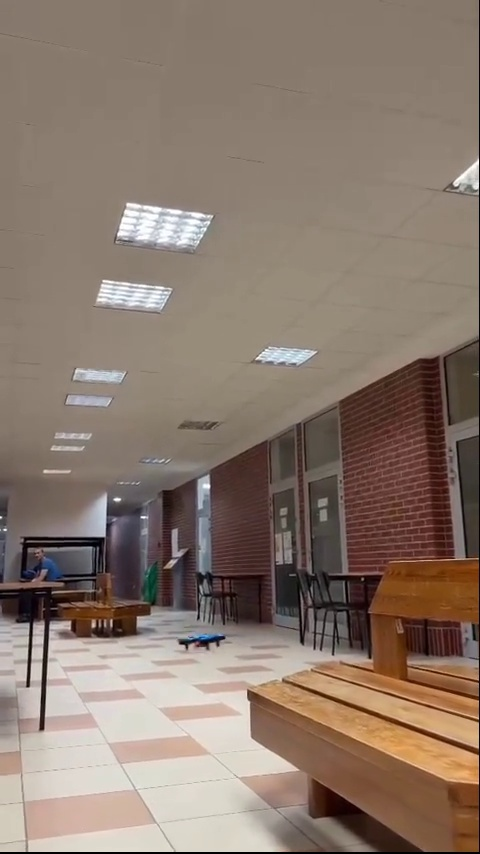drone: (177, 631, 227, 650)
no vest: (24, 539, 62, 592)
